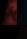crimstone: (0, 0, 17, 25)
